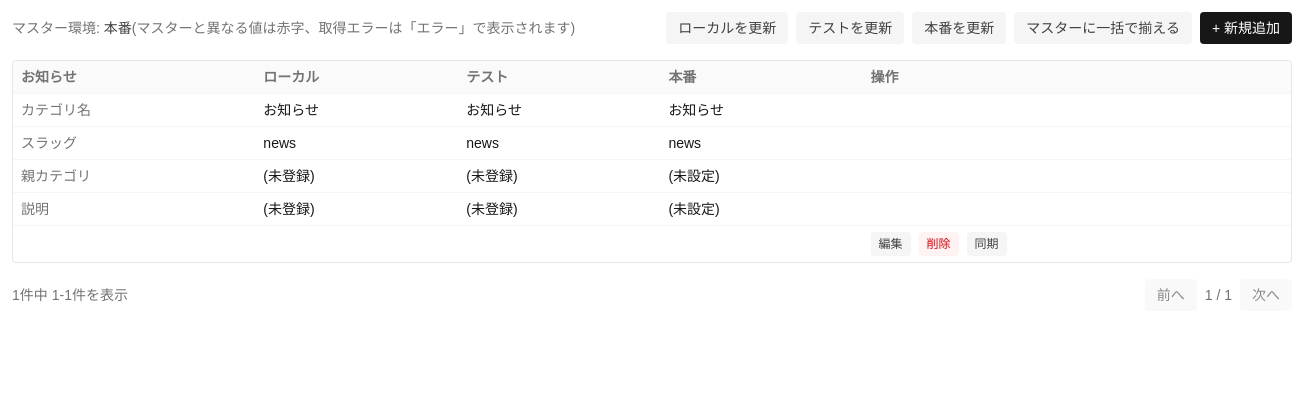
TermComparisonTable(マウント前) › マウント前は編集フォームの送信ボタンを押せない(issue #1414)
Click the button "編集" at (890, 244), box [870,232,910,256]
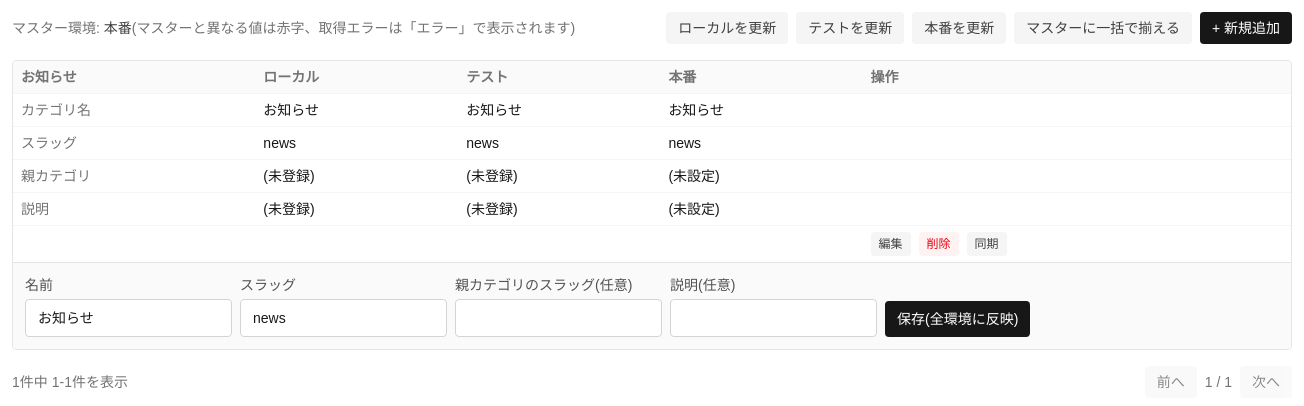
Expected: the button "保存(全環境に反映)" is enabled, [885,301,1030,337]
